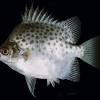Scat Fish: (1, 7, 100, 95)
